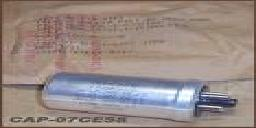Electrolytic-Capacitor: (26, 69, 243, 123)
